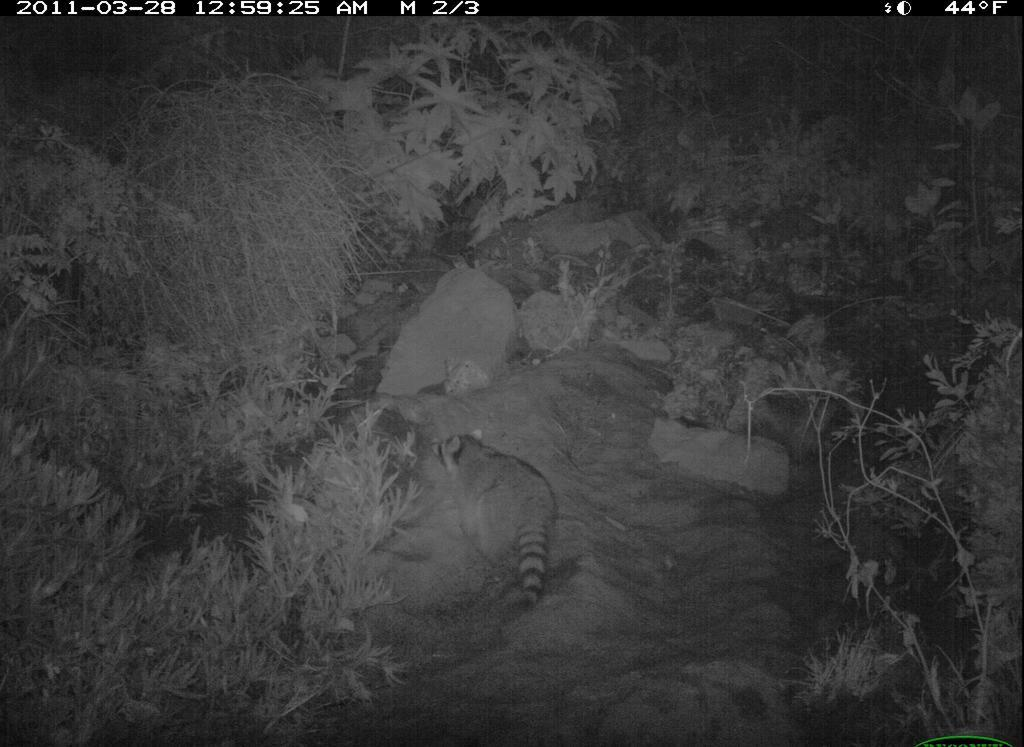raccoon: (423, 419, 566, 619)
